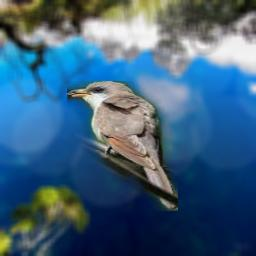Cuckoo: (67, 81, 178, 211)
